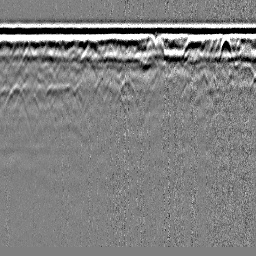cavity: (122, 74, 135, 94)
